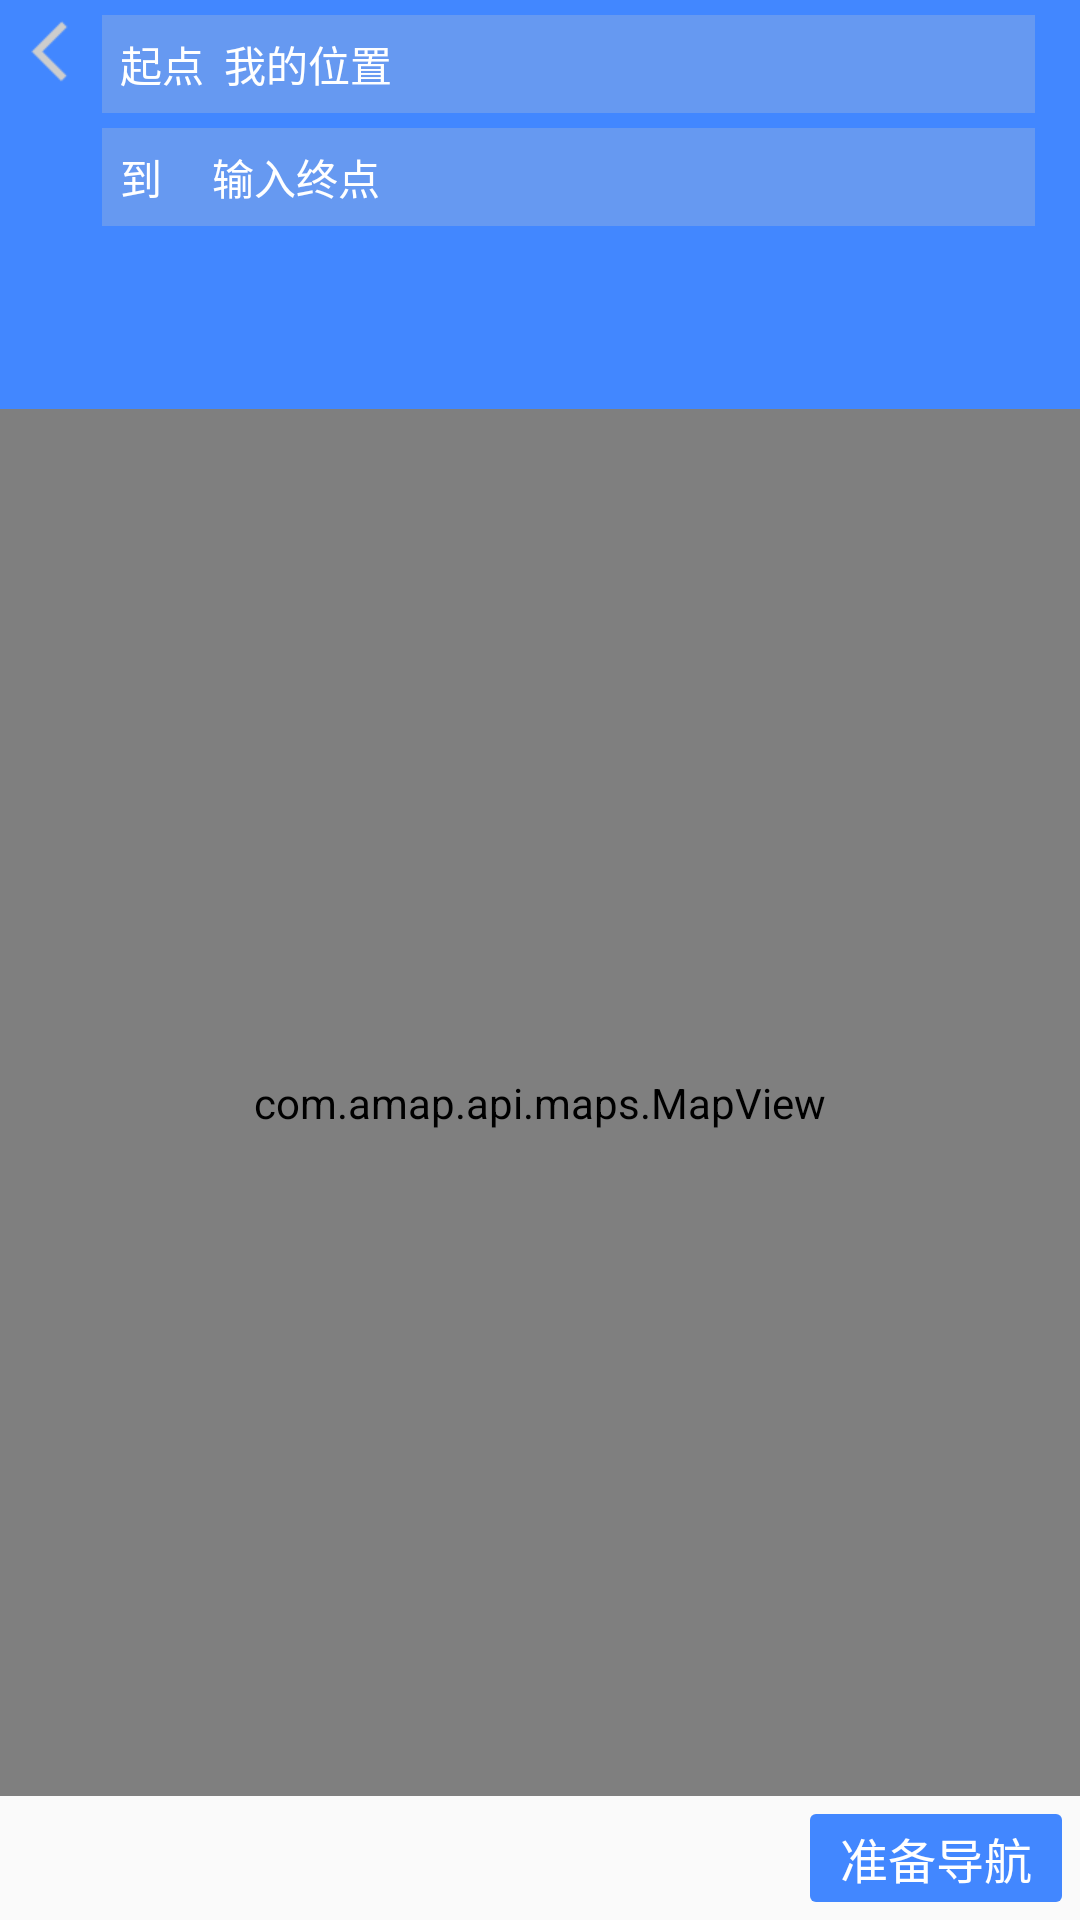

Screen size 1080 × 1920. Icon name, then its center in pixels as (x=x, y=y):
back: (x=49, y=51)
